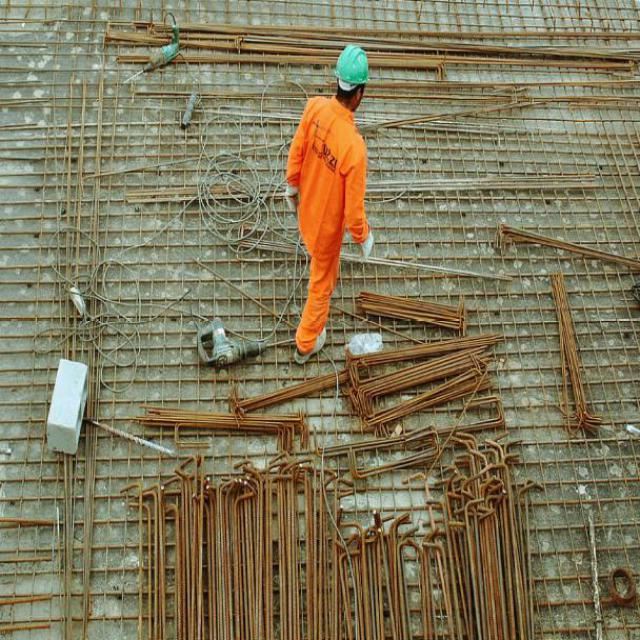gloves: (358, 230, 387, 268), (280, 180, 301, 215)
helmet: (331, 35, 378, 113)
